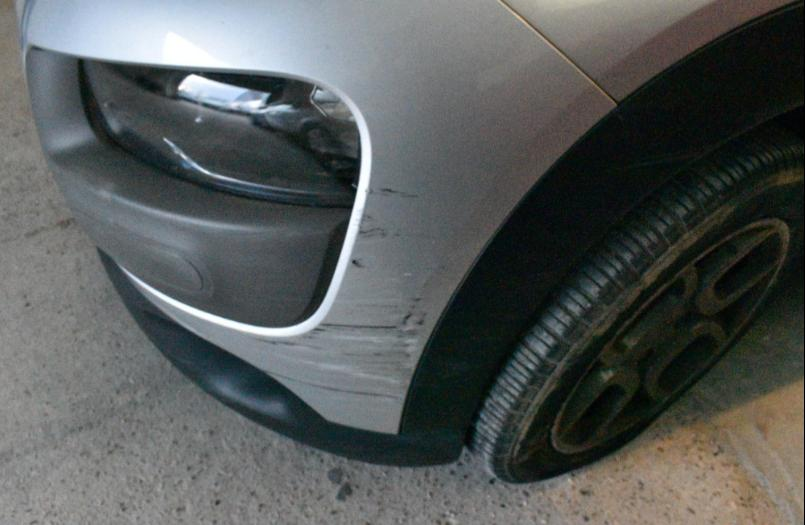Fender: (503, 0, 804, 99)
Front-bumper: (20, 0, 804, 462)
Front-wheel: (465, 119, 802, 479)
Headlight: (83, 61, 356, 206)
